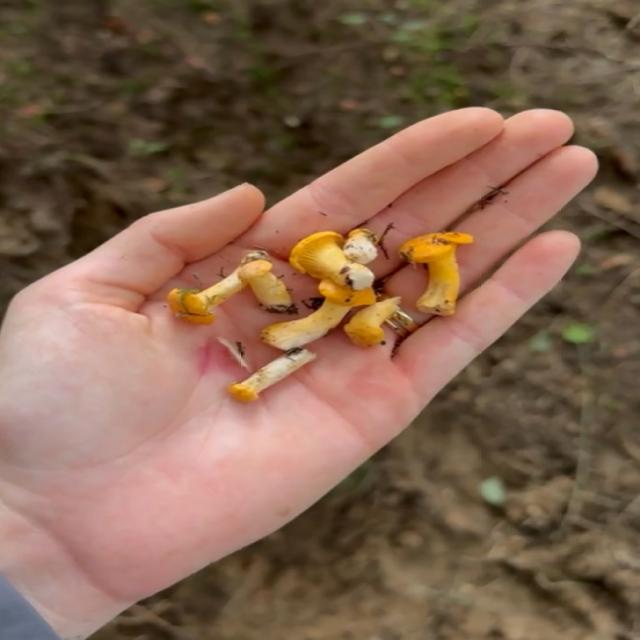chanterelle: (399, 232, 474, 317), (288, 232, 377, 293)
